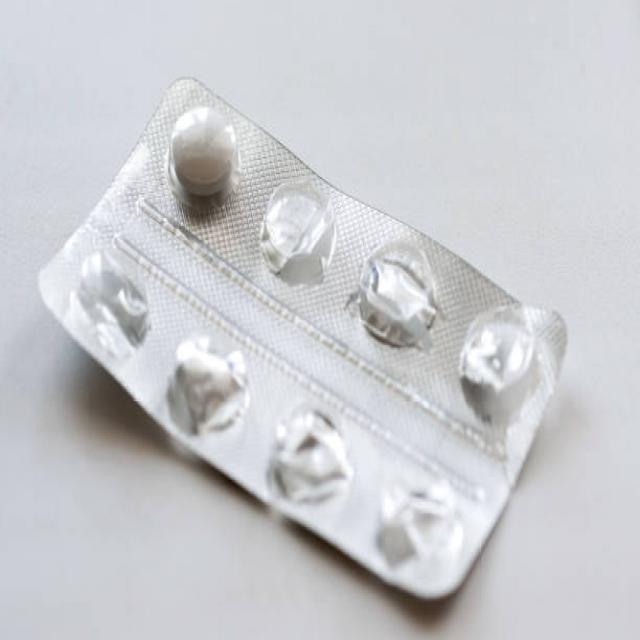Empty: (161, 315, 253, 449), (64, 250, 160, 366), (370, 465, 464, 577), (452, 291, 532, 421), (358, 234, 434, 362), (258, 171, 334, 297), (268, 401, 348, 516)
Pill: (164, 92, 240, 212)
